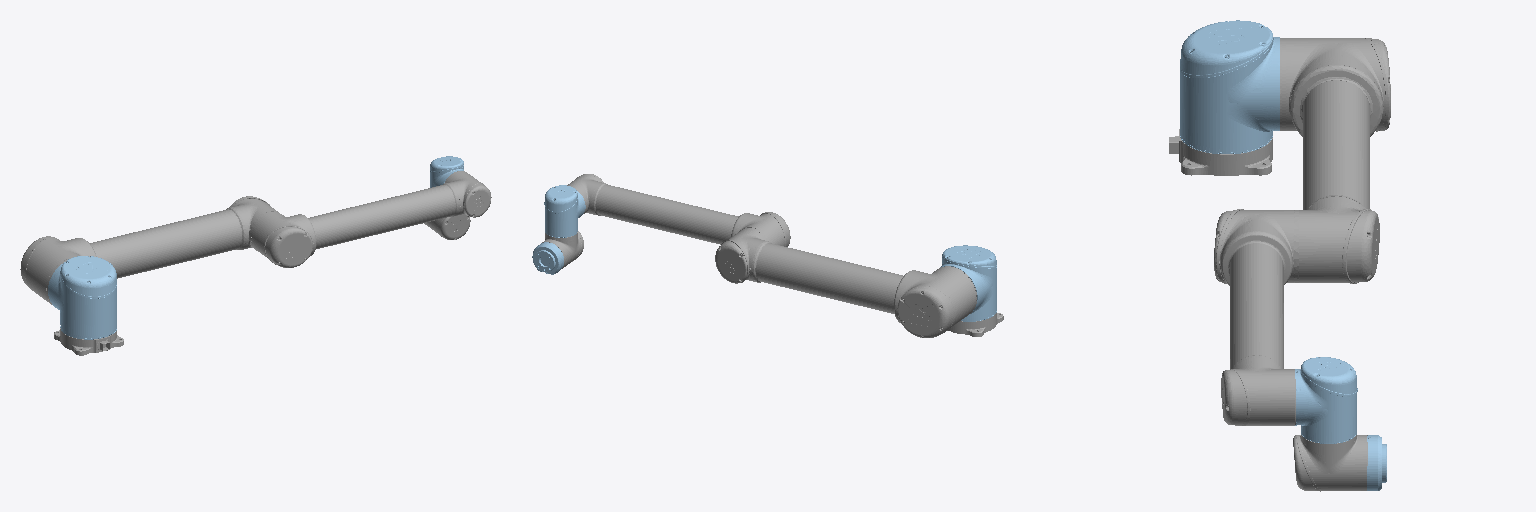
URDF robot description (ur10):
<?xml version="1.0" ?>
<!-- =================================================================================== -->
<!-- |    This document was autogenerated by xacro from ur10_robot.urdf.xacro          | -->
<!-- |    EDITING THIS FILE BY HAND IS NOT RECOMMENDED                                 | -->
<!-- =================================================================================== -->
<robot name="ur10" xmlns:xacro="http://www.ros.org/wiki/xacro">
  <!-- common stuff -->
  <material name="LightGrey">
    <color rgba="0.7 0.7 0.7 1.0"/>
  </material>
  <material name="LightBlue">
    <color rgba="0.670 0.815 0.921 1.0"/>
  </material>

  <!-- ur10 arm -->
  <link name="arm_base_link">
    <visual>
      <origin xyz="0 0 0" rpy="1.57 0 0"/>
      <geometry>
        <mesh filename="assets/ur_description/meshes/ur10/visual/Base.obj"/>
      </geometry>
      <material name="LightGrey"/>
    </visual>
    <collision>
      <geometry>
        <mesh filename="assets/ur_description/meshes/ur10/collision/base.stl"/>
      </geometry>
    </collision>
    <inertial>
      <mass value="4.0"/>
      <origin rpy="0 0 0" xyz="0.0 0.0 0.0"/>
      <inertia ixx="0.0061063308908" ixy="0.0" ixz="0.0" iyy="0.0061063308908" iyz="0.0" izz="0.01125"/>
    </inertial>
  </link>
  <joint name="shoulder_pan_joint" type="revolute">
    <parent link="arm_base_link"/>
    <child link="shoulder_link"/>
    <origin rpy="0.0 0.0 0.0" xyz="0.0 0.0 0.1273"/>
    <axis xyz="0 0 1"/>
    <limit effort="330.0" lower="-6.2831853" upper="6.2831853" velocity="2.16"/>
    <dynamics damping="0.0" friction="0.0"/>
  </joint>
  <link name="shoulder_link">
    <visual>
      <origin xyz="0 0 0" rpy="1.57 0 0"/>
      <geometry>
        <mesh filename="assets/ur_description/meshes/ur10/visual/Shoulder.obj"/>
      </geometry>
      <material name="LightBlue"/>
    </visual>
    <collision>
      <geometry>
        <mesh filename="assets/ur_description/meshes/ur10/collision/shoulder.stl"/>
      </geometry>
    </collision>
    <inertial>
      <mass value="7.778"/>
      <origin rpy="0 0 0" xyz="0.0 0.0 0.0"/>
      <inertia ixx="0.0314743125769" ixy="0.0" ixz="0.0" iyy="0.0314743125769" iyz="0.0" izz="0.021875625"/>
    </inertial>
  </link>
  <joint name="shoulder_lift_joint" type="revolute">
    <parent link="shoulder_link"/>
    <child link="upper_arm_link"/>
    <origin rpy="0.0 1.570796325 0.0" xyz="0.0 0.220941 0.0"/>
    <axis xyz="0 1 0"/>
    <limit effort="330.0" lower="-6.2831853" upper="6.2831853" velocity="2.16"/>
    <dynamics damping="0.0" friction="0.0"/>
  </joint>
  <link name="upper_arm_link">
    <visual>
      <origin xyz="0 0 0" rpy="1.57 0 0"/>
      <geometry>
        <mesh filename="assets/ur_description/meshes/ur10/visual/UpperArm.obj"/>
      </geometry>
      <material name="LightGrey"/>
    </visual>
    <collision>
      <geometry>
        <mesh filename="assets/ur_description/meshes/ur10/collision/upper_arm.stl"/>
      </geometry>
    </collision>
    <inertial>
      <mass value="12.93"/>
      <origin rpy="0 0 0" xyz="0.0 0.0 0.306"/>
      <inertia ixx="0.421753803798" ixy="0.0" ixz="0.0" iyy="0.421753803798" iyz="0.0" izz="0.036365625"/>
    </inertial>
  </link>
  <joint name="elbow_joint" type="revolute">
    <parent link="upper_arm_link"/>
    <child link="forearm_link"/>
    <origin rpy="0.0 0.0 0.0" xyz="0.0 -0.1719 0.612"/>
    <axis xyz="0 1 0"/>
    <limit effort="150.0" lower="-6.2831853" upper="6.2831853" velocity="3.15"/>
    <dynamics damping="0.0" friction="0.0"/>
  </joint>
  <link name="forearm_link">
    <visual>
      <origin xyz="0 0 0" rpy="1.57 0 0"/>
      <geometry>
        <mesh filename="assets/ur_description/meshes/ur10/visual/Forearm.obj"/>
      </geometry>
      <material name="LightGrey"/>
    </visual>
    <collision>
      <geometry>
        <mesh filename="assets/ur_description/meshes/ur10/collision/forearm.stl"/>
      </geometry>
    </collision>
    <inertial>
      <mass value="3.87"/>
      <origin rpy="0 0 0" xyz="0.0 0.0 0.28615"/>
      <inertia ixx="0.111069694097" ixy="0.0" ixz="0.0" iyy="0.111069694097" iyz="0.0" izz="0.010884375"/>
    </inertial>
  </link>
  <joint name="wrist_1_joint" type="revolute">
    <parent link="forearm_link"/>
    <child link="wrist_1_link"/>
    <origin rpy="0.0 1.570796325 0.0" xyz="0.0 0.0 0.5723"/>
    <axis xyz="0 1 0"/>
    <limit effort="54.0" lower="-6.2831853" upper="6.2831853" velocity="3.2"/>
    <dynamics damping="0.0" friction="0.0"/>
  </joint>
  <link name="wrist_1_link">
    <visual>
      <origin xyz="0 0 0" rpy="1.57 0 0"/>
      <geometry>
        <mesh filename="assets/ur_description/meshes/ur10/visual/Wrist1.obj"/>
      </geometry>
      <material name="LightBlue"/>
    </visual>
    <collision>
      <geometry>
        <mesh filename="assets/ur_description/meshes/ur10/collision/wrist_1.stl"/>
      </geometry>
    </collision>
    <inertial>
      <mass value="1.96"/>
      <origin rpy="0 0 0" xyz="0.0 0.0 0.0"/>
      <inertia ixx="0.0051082479567" ixy="0.0" ixz="0.0" iyy="0.0051082479567" iyz="0.0" izz="0.0055125"/>
    </inertial>
  </link>
  <joint name="wrist_2_joint" type="revolute">
    <parent link="wrist_1_link"/>
    <child link="wrist_2_link"/>
    <origin rpy="0.0 0.0 0.0" xyz="0.0 0.1149 0.0"/>
    <axis xyz="0 0 1"/>
    <limit effort="54.0" lower="-6.2831853" upper="6.2831853" velocity="3.2"/>
    <dynamics damping="0.0" friction="0.0"/>
  </joint>
  <link name="wrist_2_link">
    <visual>
      <origin xyz="0 0 0" rpy="1.57 0 0"/>
      <geometry>
        <mesh filename="assets/ur_description/meshes/ur10/visual/Wrist2.obj"/>
      </geometry>
      <material name="LightGrey"/>
    </visual>
    <collision>
      <geometry>
        <mesh filename="assets/ur_description/meshes/ur10/collision/wrist_2.stl"/>
      </geometry>
    </collision>
    <inertial>
      <mass value="1.96"/>
      <origin rpy="0 0 0" xyz="0.0 0.0 0.0"/>
      <inertia ixx="0.0051082479567" ixy="0.0" ixz="0.0" iyy="0.0051082479567" iyz="0.0" izz="0.0055125"/>
    </inertial>
  </link>
  <joint name="wrist_3_joint" type="revolute">
    <parent link="wrist_2_link"/>
    <child link="wrist_3_link"/>
    <origin rpy="0.0 0.0 0.0" xyz="0.0 0.0 0.1157"/>
    <axis xyz="0 1 0"/>
    <limit effort="54.0" lower="-6.2831853" upper="6.2831853" velocity="3.2"/>
    <dynamics damping="0.0" friction="0.0"/>
  </joint>
  <link name="wrist_3_link">
    <visual>
      <origin xyz="0 0 0" rpy="1.57 0 0"/>
      <geometry>
        <mesh filename="assets/ur_description/meshes/ur10/visual/Wrist3.obj"/>
      </geometry>
      <material name="LightBlue"/>
    </visual>
    <collision>
      <geometry>
        <mesh filename="assets/ur_description/meshes/ur10/collision/wrist_3.stl"/>
      </geometry>
    </collision>
    <inertial>
      <mass value="0.202"/>
      <origin rpy="0 0 0" xyz="0.0 0.0 0.0"/>
      <inertia ixx="0.000526462289415" ixy="0.0" ixz="0.0" iyy="0.000526462289415" iyz="0.0" izz="0.000568125"/>
    </inertial>
  </link>
  <joint name="ee_fixed_joint" type="fixed">
    <parent link="wrist_3_link"/>
    <child link="ee_link"/>
    <origin rpy="0.0 0.0 1.570796325" xyz="0.0 0.0922 0.0"/>
  </joint>
  <link name="ee_link">
    <collision>
      <geometry>
        <box size="0.01 0.01 0.01"/>
      </geometry>
      <origin rpy="0 0 0" xyz="-0.01 0 0"/>
    </collision>
  </link>

  <!-- <transmission name="shoulder_pan_trans">
    <type>transmission_interface/SimpleTransmission</type>
    <joint name="shoulder_pan_joint">
      <hardwareInterface>PositionJointInterface</hardwareInterface>
    </joint>
    <actuator name="shoulder_pan_motor">
      <mechanicalReduction>1</mechanicalReduction>
    </actuator>
  </transmission>
  <transmission name="shoulder_lift_trans">
    <type>transmission_interface/SimpleTransmission</type>
    <joint name="shoulder_lift_joint">
      <hardwareInterface>PositionJointInterface</hardwareInterface>
    </joint>
    <actuator name="shoulder_lift_motor">
      <mechanicalReduction>1</mechanicalReduction>
    </actuator>
  </transmission>
  <transmission name="elbow_trans">
    <type>transmission_interface/SimpleTransmission</type>
    <joint name="elbow_joint">
      <hardwareInterface>PositionJointInterface</hardwareInterface>
    </joint>
    <actuator name="elbow_motor">
      <mechanicalReduction>1</mechanicalReduction>
    </actuator>
  </transmission>
  <transmission name="wrist_1_trans">
    <type>transmission_interface/SimpleTransmission</type>
    <joint name="wrist_1_joint">
      <hardwareInterface>PositionJointInterface</hardwareInterface>
    </joint>
    <actuator name="wrist_1_motor">
      <mechanicalReduction>1</mechanicalReduction>
    </actuator>
  </transmission>
  <transmission name="wrist_2_trans">
    <type>transmission_interface/SimpleTransmission</type>
    <joint name="wrist_2_joint">
      <hardwareInterface>PositionJointInterface</hardwareInterface>
    </joint>
    <actuator name="wrist_2_motor">
      <mechanicalReduction>1</mechanicalReduction>
    </actuator>
  </transmission>
  <transmission name="wrist_3_trans">
    <type>transmission_interface/SimpleTransmission</type>
    <joint name="wrist_3_joint">
      <hardwareInterface>PositionJointInterface</hardwareInterface>
    </joint>
    <actuator name="wrist_3_motor">
      <mechanicalReduction>1</mechanicalReduction>
    </actuator>
  </transmission> -->

  <!-- robotiq gripper -->
</robot>

--- Facts derived from the render (not from the file) ---
3 views of the same robot in one strip: view 1: azimuth 30°, elevation 25°; view 2: azimuth 150°, elevation 25°; view 3: azimuth 270°, elevation 25° (orthographic).
Robot: ur10 — 8 links, 7 joints (6 revolute, 1 fixed); root link arm_base_link; default pose: all joints at 0.
Visible links, largest first — view 1: upper_arm_link, forearm_link, shoulder_link, arm_base_link, wrist_2_link, wrist_1_link; view 2: upper_arm_link, forearm_link, shoulder_link, wrist_1_link, wrist_3_link, wrist_2_link, arm_base_link; view 3: upper_arm_link, forearm_link, shoulder_link, wrist_1_link, wrist_2_link, arm_base_link, wrist_3_link.
Link boxes in pixels (x1,y1,x2,y2): upper_arm_link: (20, 196, 278, 304); forearm_link: (249, 171, 491, 267); shoulder_link: (48, 256, 116, 339); arm_base_link: (54, 328, 123, 355); wrist_2_link: (424, 214, 470, 239); wrist_1_link: (430, 156, 463, 187); upper_arm_link: (715, 229, 976, 337); forearm_link: (567, 174, 790, 246); shoulder_link: (940, 245, 996, 321); wrist_1_link: (544, 185, 585, 237); wrist_3_link: (532, 242, 563, 274); wrist_2_link: (542, 231, 583, 268); arm_base_link: (948, 313, 1003, 336); upper_arm_link: (1280, 38, 1390, 283); forearm_link: (1214, 209, 1298, 425); shoulder_link: (1180, 20, 1279, 153); wrist_1_link: (1295, 357, 1357, 443); wrist_2_link: (1293, 435, 1367, 491); arm_base_link: (1169, 129, 1272, 175); wrist_3_link: (1367, 435, 1386, 490).
Bounding box of the posed robot: 1.31 × 0.3552 × 0.2501 m (x, y, z).
7 mesh visuals loaded from 7 distinct referenced files (7 OBJ).